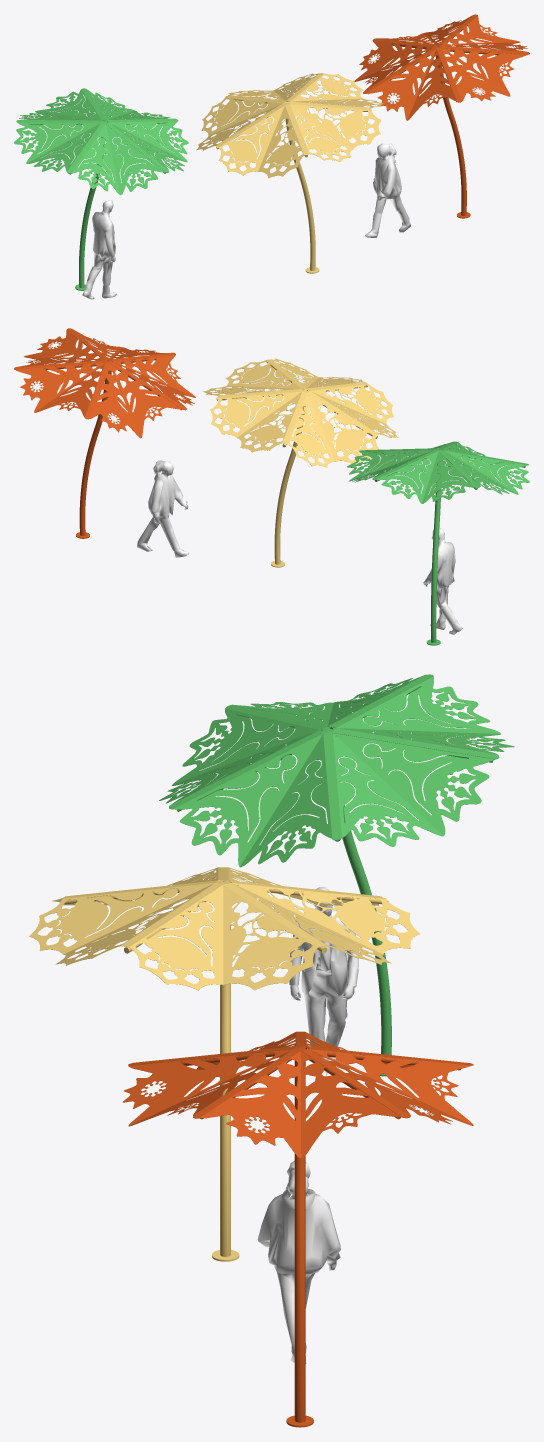
The picture shows the model from 3 angles, top to bottom: view 1: azimuth 30°, elevation 25°; view 2: azimuth 150°, elevation 25°; view 3: azimuth 270°, elevation 25°; orthographic projection. The views are drawn at different scales.
Visible parts, largest first — view 1: shadeB_001, ShadeC_001, NGon_Down001, girl_walk, Object_008, shadeA002, shadeA001, shadeA; view 2: shadeB_001, NGon_Down001, ShadeC_001, girl_walk, Object_008, shadeA, shadeA001, shadeA002; view 3: ShadeC_001, shadeB_001, NGon_Down001, girl_walk, Object_008, shadeA002, shadeA001, shadeA.
Boxes of the visible parts, x1,y1,x2,y2 form: shadeB_001: [196, 73, 383, 178]; ShadeC_001: [14, 88, 188, 195]; NGon_Down001: [354, 14, 529, 120]; girl_walk: [365, 143, 410, 237]; Object_008: [82, 200, 116, 299]; shadeA002: [449, 117, 466, 215]; shadeA001: [298, 172, 315, 270]; shadeA: [79, 190, 94, 288]; shadeB_001: [203, 358, 398, 467]; NGon_Down001: [14, 328, 195, 438]; ShadeC_001: [347, 441, 529, 503]; girl_walk: [137, 460, 189, 557]; Object_008: [423, 528, 462, 634]; shadeA: [431, 531, 439, 642]; shadeA001: [274, 462, 292, 564]; shadeA002: [79, 433, 97, 535]; ShadeC_001: [159, 674, 514, 867]; shadeB_001: [29, 867, 420, 990]; NGon_Down001: [122, 1031, 473, 1158]; girl_walk: [257, 1160, 340, 1363]; Object_008: [289, 886, 358, 1076]; shadeA002: [294, 1207, 305, 1422]; shadeA001: [220, 1041, 230, 1256]; shadeA: [354, 869, 391, 1054].
Size of the model in its own units: 9.29 by 3.2 by 4.01.
